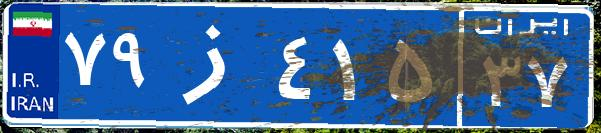1: (330, 28, 385, 110)
3: (475, 38, 525, 113)
4: (273, 28, 330, 110)
5: (385, 28, 445, 110)
7: (57, 26, 110, 107), (525, 38, 570, 115)
9: (110, 28, 158, 105)
ز: (158, 15, 273, 115)
